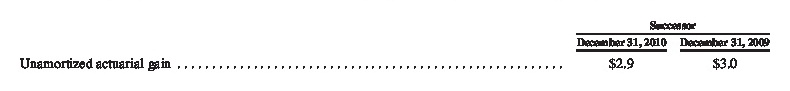table: (0, 0, 790, 91)
